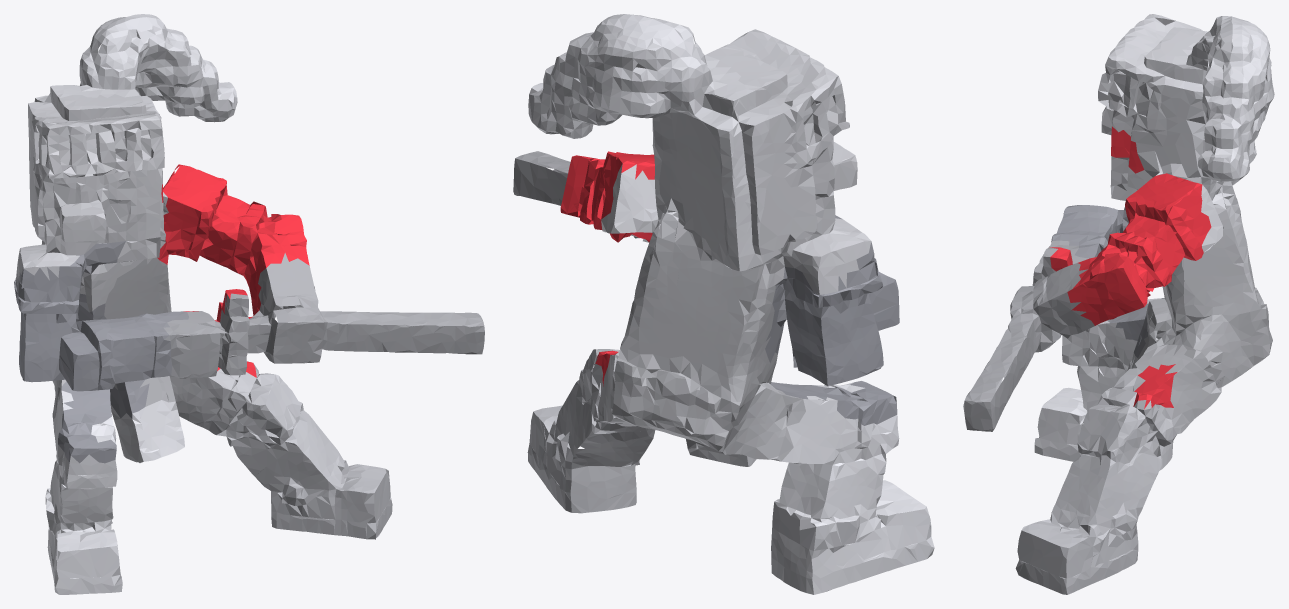
Rendered from medieval_knight2.glb.
3 views of the same model, side by side, from view 1: azimuth 30°, elevation 25°; view 2: azimuth 150°, elevation 25°; view 3: azimuth 270°, elevation 25° (orthographic). The views are drawn at different scales.
Parts seen in each view (by area): view 1: part_5, part_6, part_4, part_0, part_3, part_2, part_1, part_7; view 2: part_2, part_7, part_3, part_5, part_6, part_0, part_1, part_4; view 3: part_0, part_7, part_2, part_1, part_5, part_4, part_3, part_6.
Boxes of the visible parts, bbox=[...] form: part_5: bbox=[15, 94, 168, 312]; part_6: bbox=[14, 241, 188, 463]; part_4: bbox=[163, 253, 484, 378]; part_0: bbox=[187, 363, 392, 539]; part_3: bbox=[45, 387, 184, 594]; part_2: bbox=[28, 14, 237, 209]; part_1: bbox=[157, 164, 309, 377]; part_7: bbox=[52, 257, 203, 420]; part_2: bbox=[528, 14, 774, 271]; part_7: bbox=[598, 218, 805, 461]; part_3: bbox=[688, 382, 934, 594]; part_5: bbox=[705, 29, 871, 294]; part_6: bbox=[765, 215, 899, 425]; part_0: bbox=[527, 349, 655, 513]; part_1: bbox=[560, 151, 654, 386]; part_4: bbox=[513, 151, 649, 242]; part_0: bbox=[1015, 364, 1181, 594]; part_7: bbox=[1135, 195, 1272, 432]; part_2: bbox=[1162, 16, 1274, 252]; part_1: bbox=[1050, 126, 1211, 409]; part_5: bbox=[1098, 14, 1207, 200]; part_4: bbox=[963, 240, 1094, 431]; part_3: bbox=[1034, 298, 1173, 470]; part_6: bbox=[1051, 205, 1164, 357].
Size of the model in its own units: 1.61 by 1.9 by 1.1.
